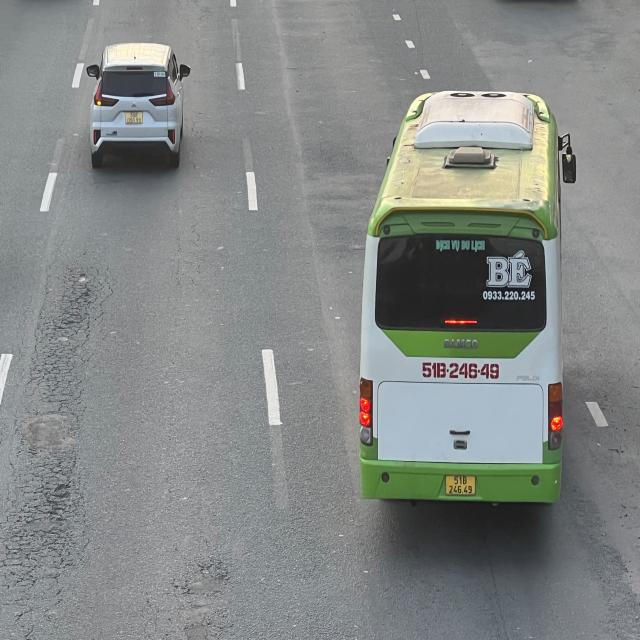car: (88, 43, 190, 168)
coach: (362, 90, 573, 512)
